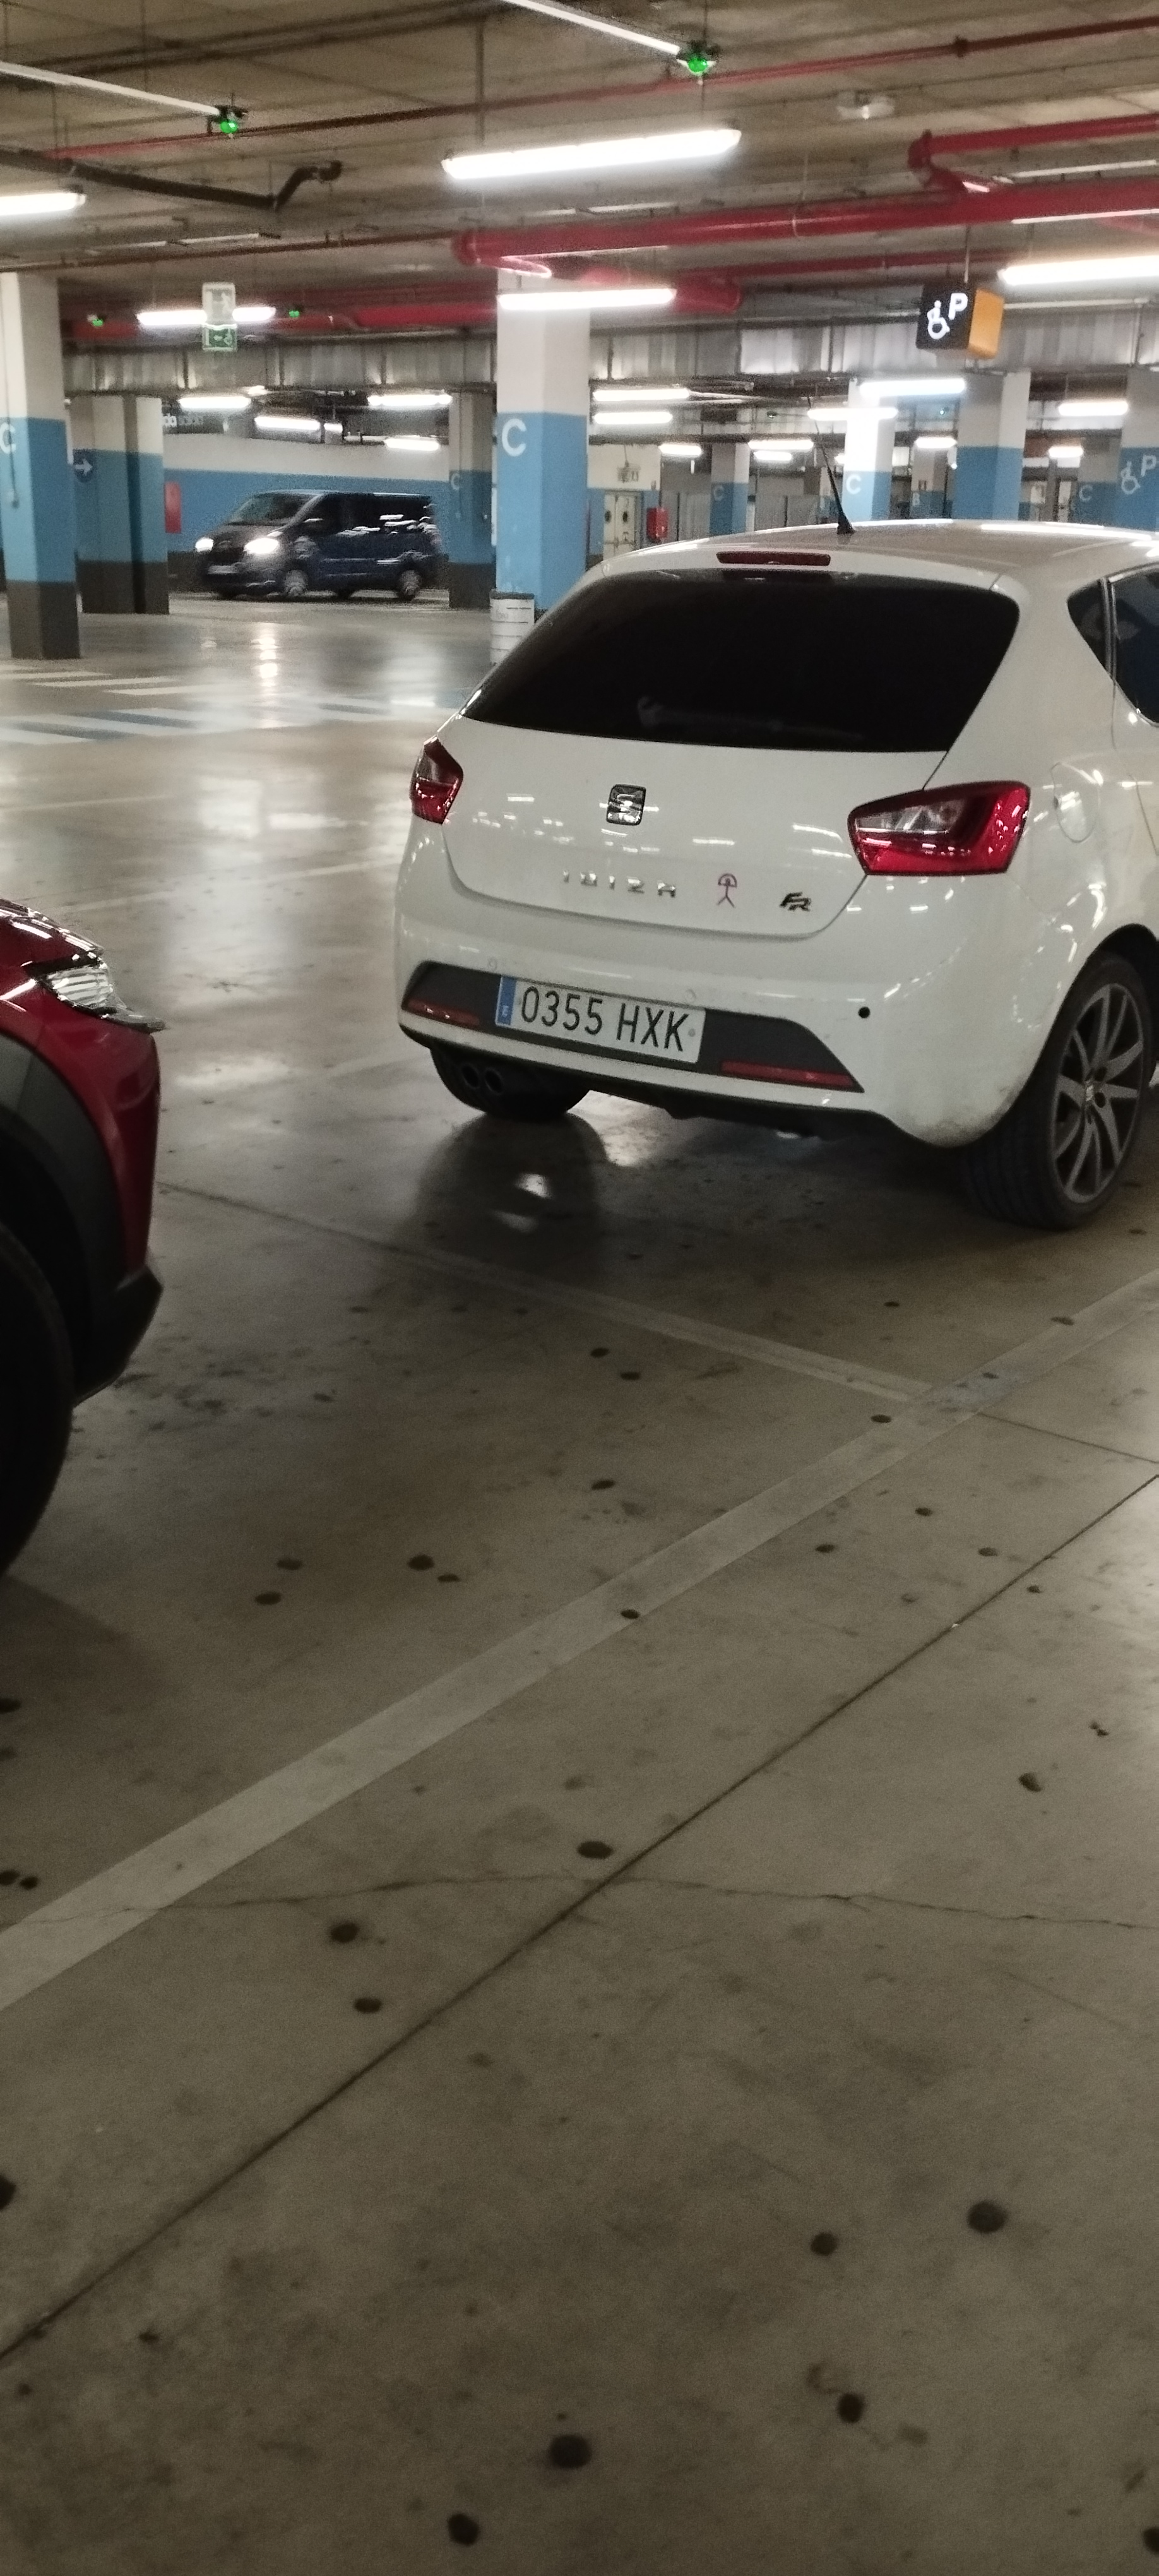Car: (389, 514, 1158, 1208)
Plate: (497, 967, 710, 1027)
